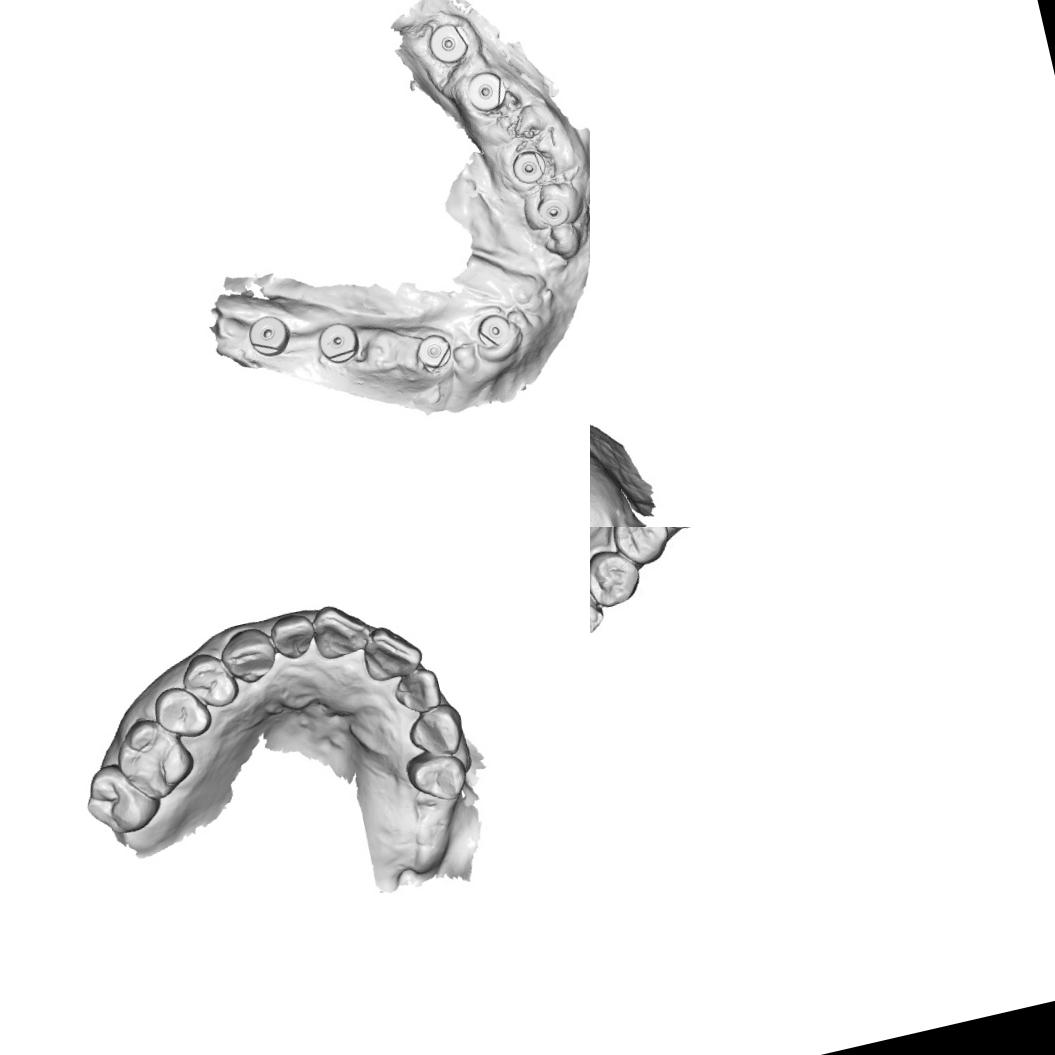canine: (214, 619, 283, 688), (403, 698, 470, 763), (590, 567, 608, 640)
implant: (424, 18, 476, 70), (463, 65, 514, 118), (313, 318, 364, 369), (244, 310, 294, 362), (410, 328, 458, 374), (506, 145, 552, 188), (472, 310, 516, 354), (533, 194, 574, 232)
incisor: (355, 615, 427, 685), (306, 597, 374, 663), (266, 609, 320, 667), (389, 664, 444, 719)
molar: (107, 708, 201, 808), (77, 752, 168, 842)
premolar: (400, 741, 472, 810), (176, 646, 246, 716), (148, 680, 216, 746), (590, 541, 646, 611), (607, 527, 674, 572)
